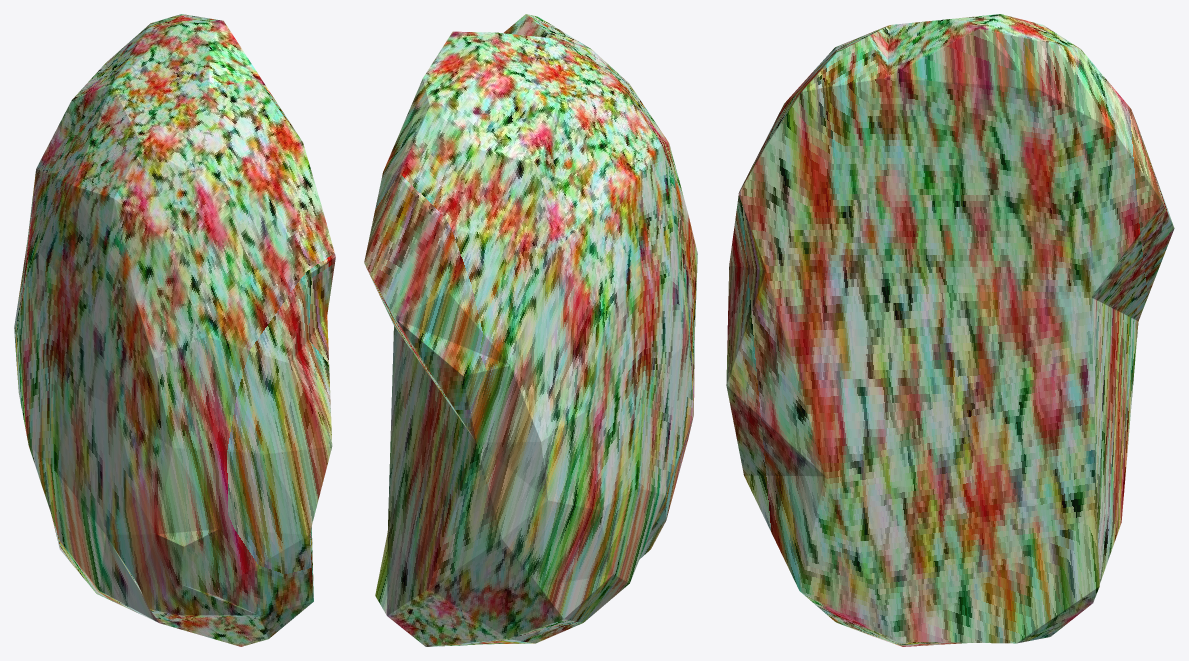
3 renders of one model, left to right at view 1: azimuth 30°, elevation 25°; view 2: azimuth 150°, elevation 25°; view 3: azimuth 270°, elevation 25°, orthographic. The views are drawn at different scales.
Parts seen in each view (by area): view 1: Renderer Node; view 2: Renderer Node; view 3: Renderer Node.
Boxes of the visible parts, x1,y1,x2,y2 form: Renderer Node: (14, 14, 335, 646); Renderer Node: (364, 14, 697, 646); Renderer Node: (726, 14, 1174, 646).
Size of the model in its own units: 0.1126 by 0.3235 by 0.2078.
Materials: 1 (1 with a texture image).
